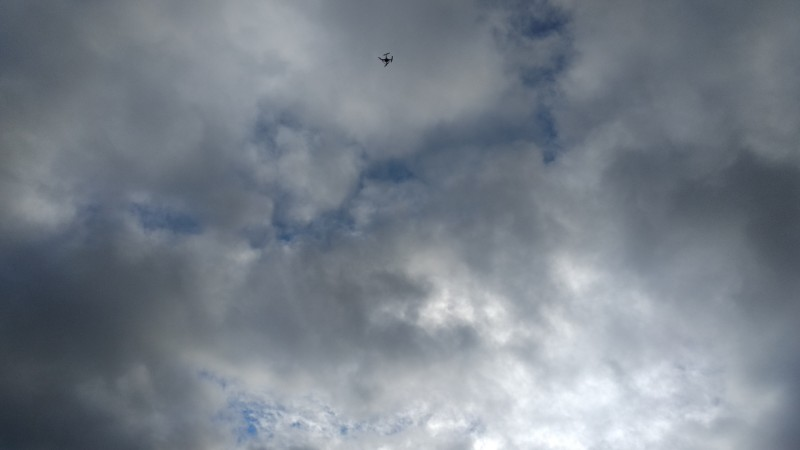drone: (379, 52, 394, 66)
